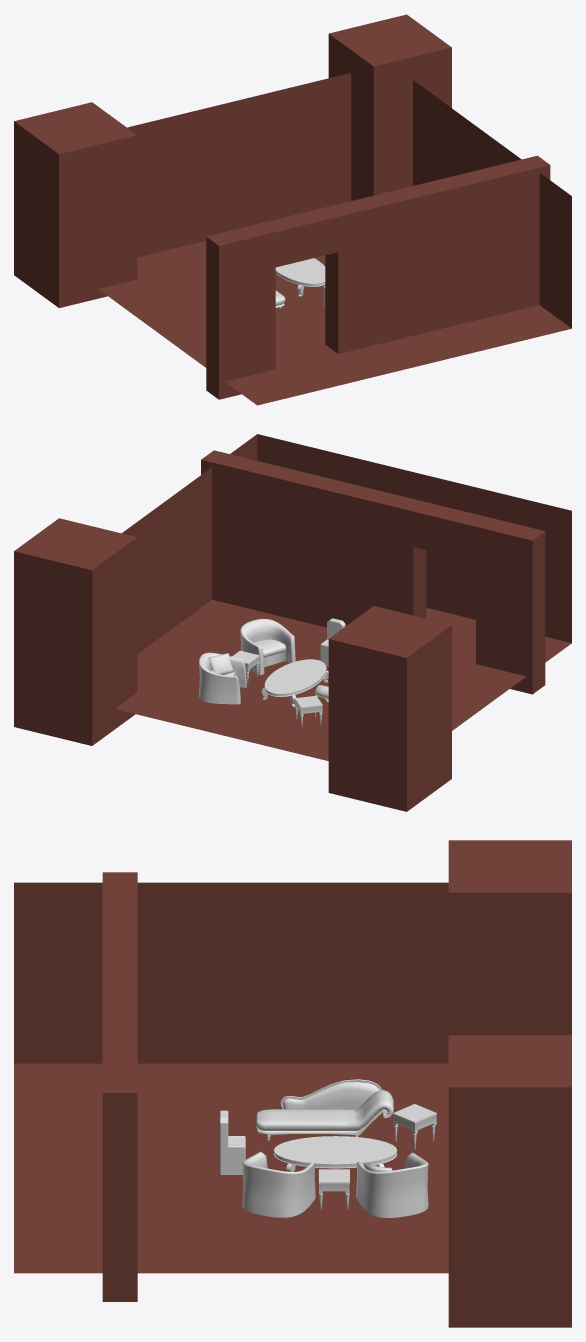
The model's file is illusory_room.glb.
The picture shows the model from 3 angles, top to bottom: view 1: azimuth 30°, elevation 25°; view 2: azimuth 150°, elevation 25°; view 3: azimuth 270°, elevation 25°; orthographic projection. The views are drawn at different scales.
Parts seen in each view (by area): view 1: hologram, coffee_table; view 2: hologram, chair.001, coffee_table, chair, end_table2; view 3: hologram, lounge-sofa, chair.001, chair, coffee_table, chair-col, end_table2, end_table.
Boxes of the visible parts, left/top/right/bottom form: hologram: left=14, top=14, right=571, bottom=405; coffee_table: left=275, top=258, right=325, bottom=296; hologram: left=14, top=434, right=571, bottom=811; chair.001: left=240, top=618, right=295, bottom=674; coffee_table: left=261, top=659, right=328, bottom=706; chair: left=199, top=652, right=246, bottom=704; end_table2: left=294, top=695, right=322, bottom=726; hologram: left=14, top=840, right=571, bottom=1327; lounge-sofa: left=256, top=1079, right=393, bottom=1141; chair.001: left=242, top=1151, right=315, bottom=1217; chair: left=356, top=1152, right=428, bottom=1217; coffee_table: left=273, top=1136, right=397, bottom=1171; chair-col: left=220, top=1110, right=245, bottom=1174; end_table2: left=392, top=1104, right=436, bottom=1149; end_table: left=318, top=1169, right=349, bottom=1209.
Size of the model in its own units: 10.05 by 4.3 by 9.05.
